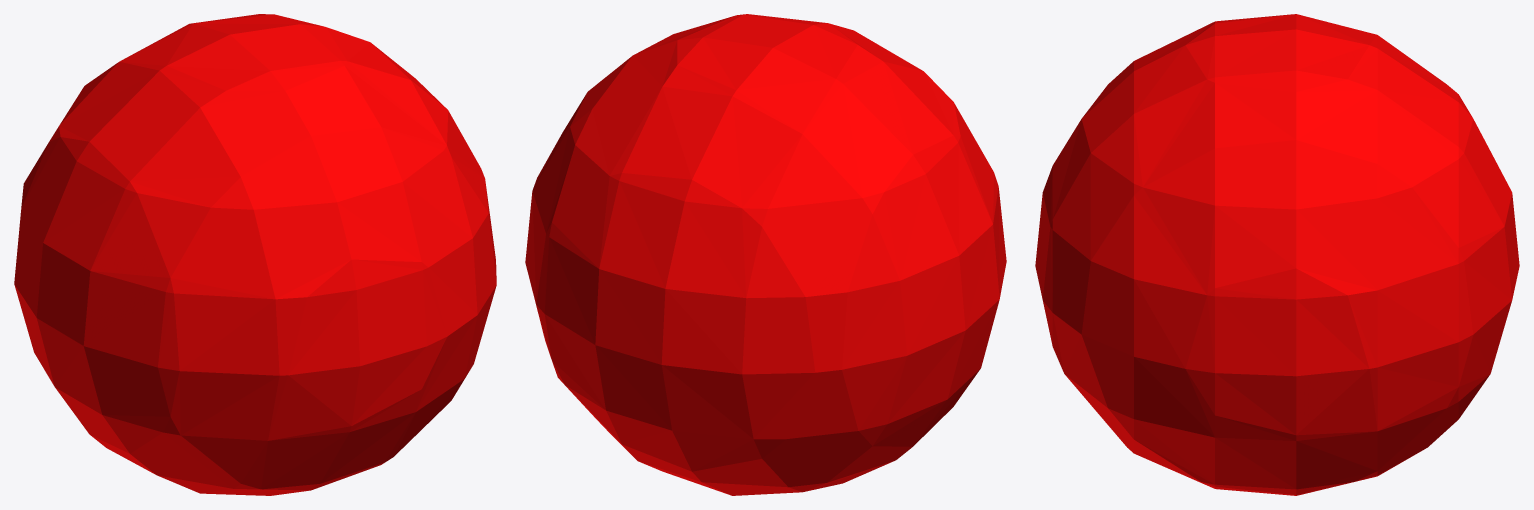
Rendered from demo.obj.
The picture shows the model from 3 angles, left to right: view 1: azimuth 30°, elevation 25°; view 2: azimuth 150°, elevation 25°; view 3: azimuth 270°, elevation 25°; orthographic projection.
Bounding box in the file's own units: 5.96 × 5.96 × 5.96.
